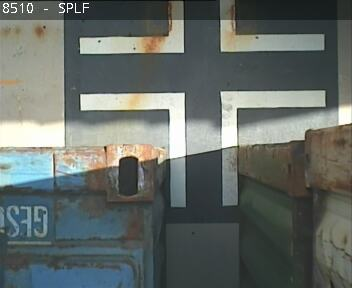groundmarker_1: (80, 90, 326, 205), (80, 1, 324, 55)
